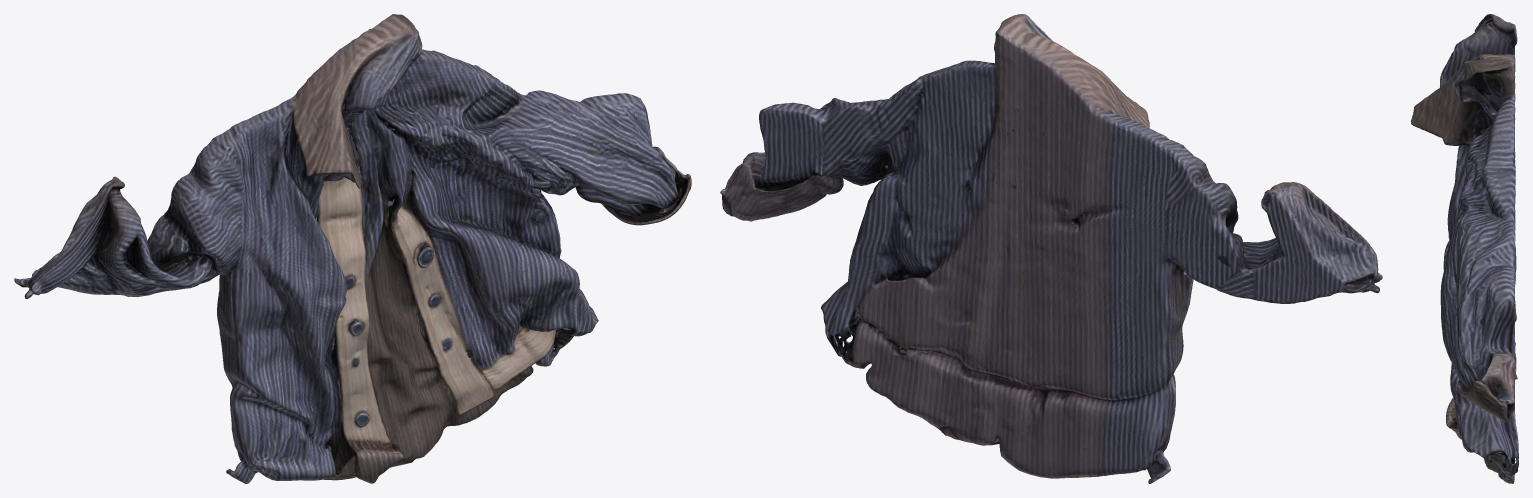
File: shirt.glb
3 renders of one model, left to right at view 1: azimuth 30°, elevation 25°; view 2: azimuth 150°, elevation 25°; view 3: azimuth 270°, elevation 25°, orthographic. The views are drawn at different scales.
Bounding box in the file's own units: 1.9 × 1.24 × 0.2916.
Materials: 1 (1 with a texture image).
